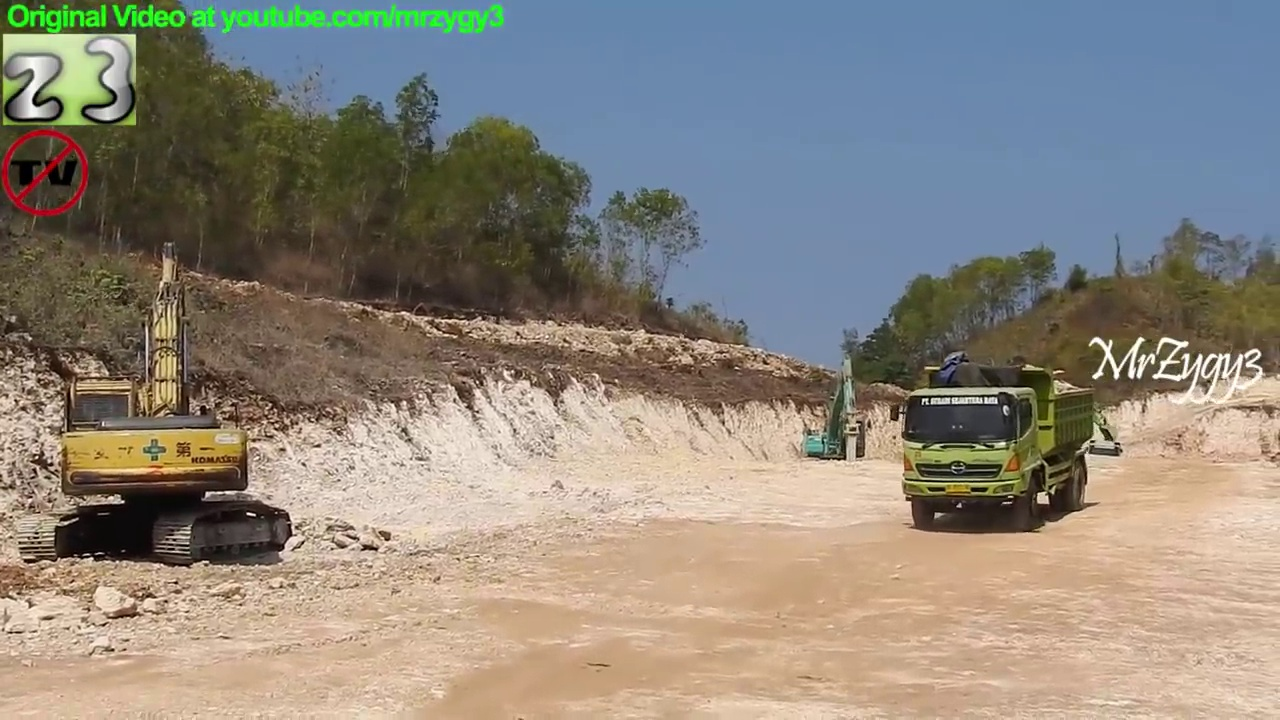excavator: (799, 355, 877, 483), (1033, 398, 1117, 469)
excavator breaker: (12, 234, 298, 571)
truck: (885, 362, 1100, 537), (1082, 437, 1129, 486)
